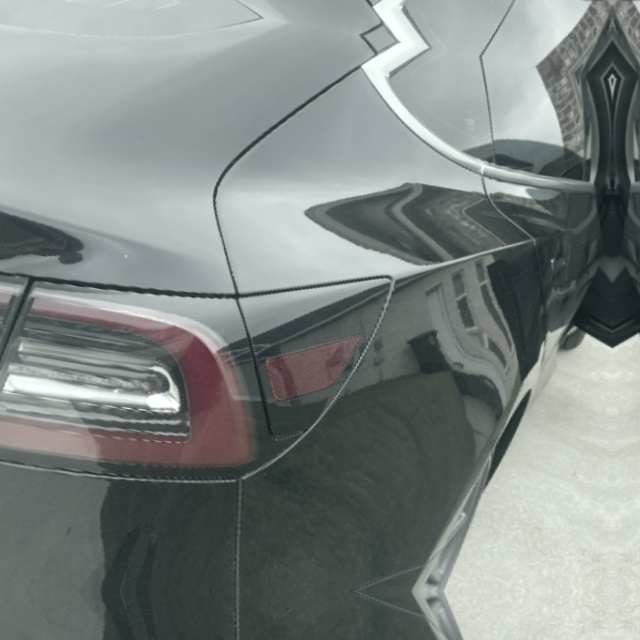reflector: (258, 317, 363, 415)
